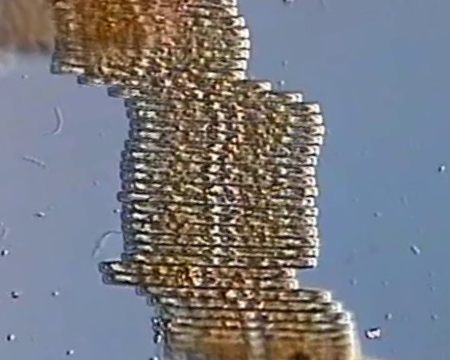fil: (100, 262, 300, 279), (127, 108, 323, 123), (136, 285, 332, 300), (124, 233, 318, 248), (109, 87, 304, 101), (159, 307, 350, 321), (117, 191, 317, 204), (125, 141, 318, 154), (129, 129, 322, 141), (153, 333, 354, 344), (121, 254, 320, 265), (122, 212, 317, 223), (78, 75, 268, 86), (52, 53, 248, 63), (52, 65, 244, 75), (120, 182, 318, 191), (120, 162, 314, 171), (152, 323, 351, 331), (55, 29, 250, 37), (55, 39, 249, 47), (51, 7, 239, 15), (56, 19, 244, 25)
